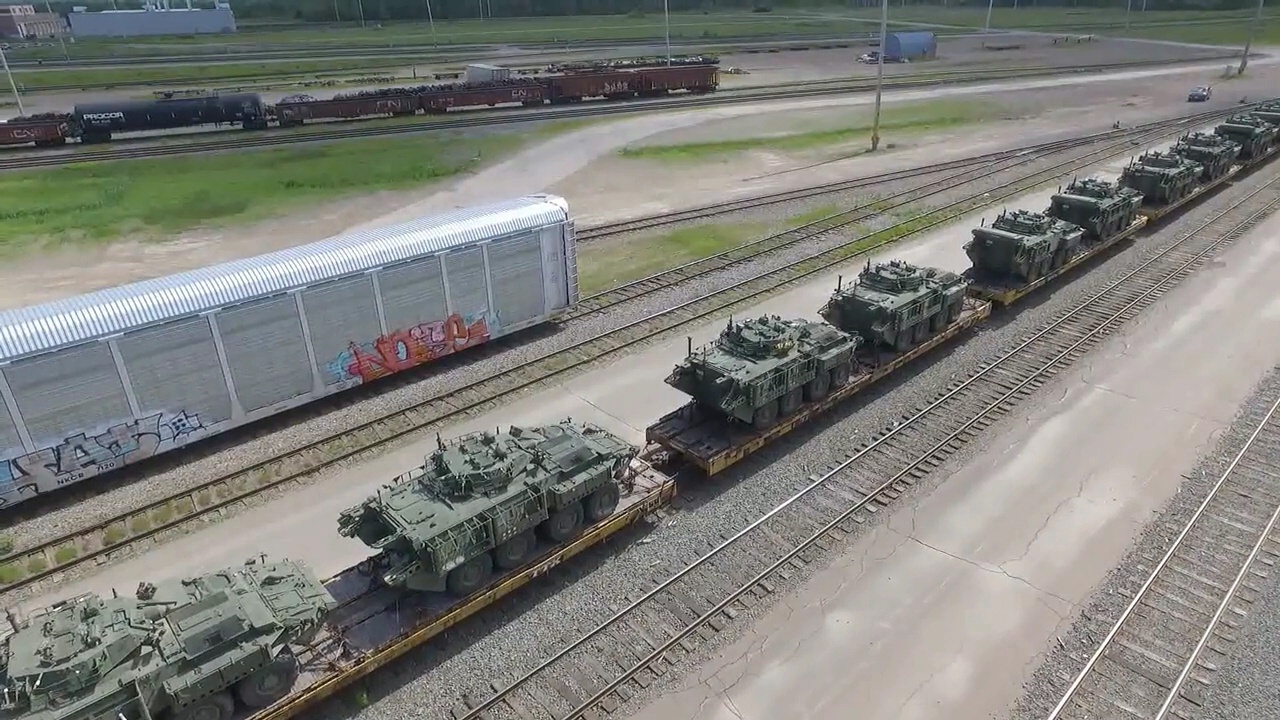araba: (1187, 82, 1213, 103)
tank: (1, 544, 342, 712), (343, 413, 639, 602), (663, 311, 874, 423), (828, 260, 971, 342), (966, 206, 1086, 286), (1048, 173, 1152, 246), (1120, 154, 1203, 203), (1170, 129, 1245, 172), (1211, 113, 1280, 157)
